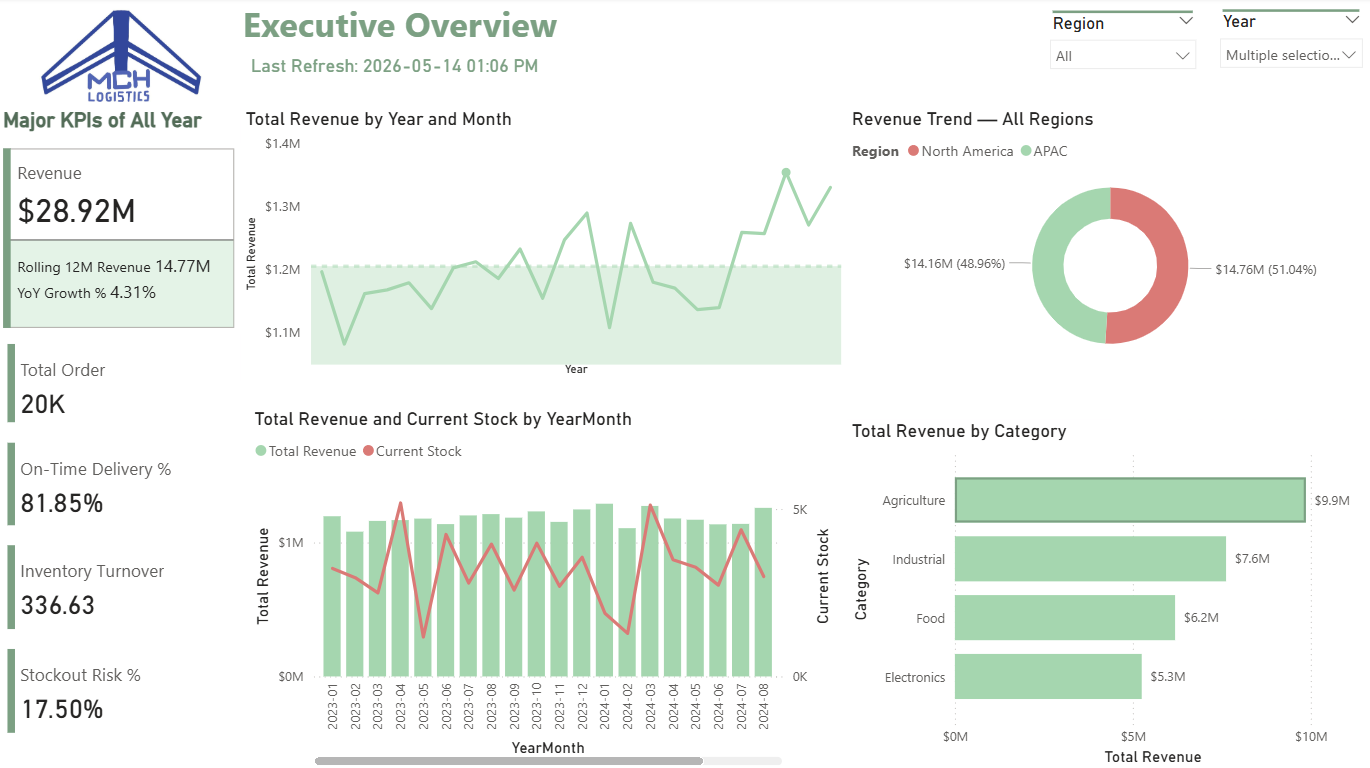

What the dashboard file says about the page in this screenshot:
{"tool":"powerbi","page":{"name":"Executive Overview","canvas":[1280,720],"ordinal":0},"visuals":[{"type":"lineChart","fields":{"Y":["Measure.Total Revenue"],"Category":["DimDate.FullDate.Variation.Date Hierarchy.Year","DimDate.FullDate.Variation.Date Hierarchy.Month"]},"box":[225.6,103.5,564,253.5],"z":0},{"type":"donutChart","fields":{"Y":["Measure.Total Revenue"],"Category":["DimCustomer.Region","DimCustomer.Country"]},"box":[789.5,103.5,490.7,244.2],"z":1000},{"type":"cardVisual","fields":{"Data":["CountNonNull(FactOrders.OrderID)"]},"box":[0,314,172.1,91.9],"z":2000,"group":"g2"},{"type":"lineStackedColumnComboChart","fields":{"Category":["DimDate.YearMonth"],"Y":["Measure.Total Revenue"],"Y2":["Measure.Current Stock"]},"box":[233.7,382.6,546.5,337.2],"z":2000},{"type":"barChart","fields":{"Y":["Measure.Total Revenue"],"Category":["DimProduct.Category"]},"box":[789.5,393,490.7,326.7],"z":3000},{"type":"slicer","fields":{"Values":["DimDate.FullDate.Variation.Date Hierarchy.Year"]},"box":[1125.6,5.8,154.7,72.1],"z":4000},{"type":"slicer","fields":{"Values":["DimCustomer.Region"]},"box":[967.4,7,158.1,74.4],"z":5000},{"type":"cardVisual","fields":{"Data":["Measure.On-Time Delivery %"]},"box":[0,405.9,197.7,95.3],"z":5000,"group":"g2"},{"type":"cardVisual","fields":{"Data":["Sum(FactOrders.Revenue)"]},"box":[0,136,225.6,177.9],"z":6000},{"type":"textbox","box":[0,103.5,207,24.4],"z":7000},{"type":"group","id":"g1","title":"Group 1","box":[225.6,0,414,87.2],"z":8000},{"type":"textbox","box":[225.6,0,413.8,68.9],"z":8000,"group":"g1"},{"type":"group","id":"g2","title":"Group 2","box":[0,314,197.7,380.2],"z":9000},{"type":"image","box":[0,10.5,227.9,87.2],"z":10000},{"type":"cardVisual","fields":{"Data":["Measure.Inventory Turnover"]},"box":[0,501.2,194.2,96.5],"z":10000,"group":"g2"},{"type":"card","title":"Last Refresh","fields":{"Values":["DimCarrier.Last Refresh Title"]},"box":[228.1,41.5,282.5,45.3],"z":10002,"group":"g1"},{"type":"cardVisual","fields":{"Data":["Measure.Stockout Risk %"]},"box":[0,597.3,194.2,96.5],"z":10006,"group":"g2"}]}

Visuals, with their boxes in screenshot pixels (x1, y1, x2, y2), scaled from the page's 1280x720 canvas onto the 1370x768 screenshot:
lineChart - Measure.Total Revenue x DimDate.FullDate.Variation.Date Hierarchy.Year: region(241, 110, 845, 381)
donutChart - Measure.Total Revenue x DimCustomer.Region: region(845, 110, 1369, 371)
cardVisual - CountNonNull(FactOrders.OrderID): region(0, 335, 184, 433)
lineStackedColumnComboChart - DimDate.YearMonth x Measure.Total Revenue: region(250, 408, 835, 767)
barChart - Measure.Total Revenue x DimProduct.Category: region(845, 419, 1369, 767)
slicer - DimDate.FullDate.Variation.Date Hierarchy.Year: region(1205, 6, 1369, 83)
slicer - DimCustomer.Region: region(1035, 7, 1205, 87)
cardVisual - Measure.On-Time Delivery %: region(0, 433, 212, 535)
cardVisual - Sum(FactOrders.Revenue): region(0, 145, 241, 335)
textbox: region(0, 110, 222, 136)
"Group 1" group: region(241, 0, 685, 93)
textbox: region(241, 0, 684, 73)
"Group 2" group: region(0, 335, 212, 740)
image: region(0, 11, 244, 104)
cardVisual - Measure.Inventory Turnover: region(0, 535, 208, 638)
"Last Refresh" card: region(244, 44, 547, 93)
cardVisual - Measure.Stockout Risk %: region(0, 637, 208, 740)
